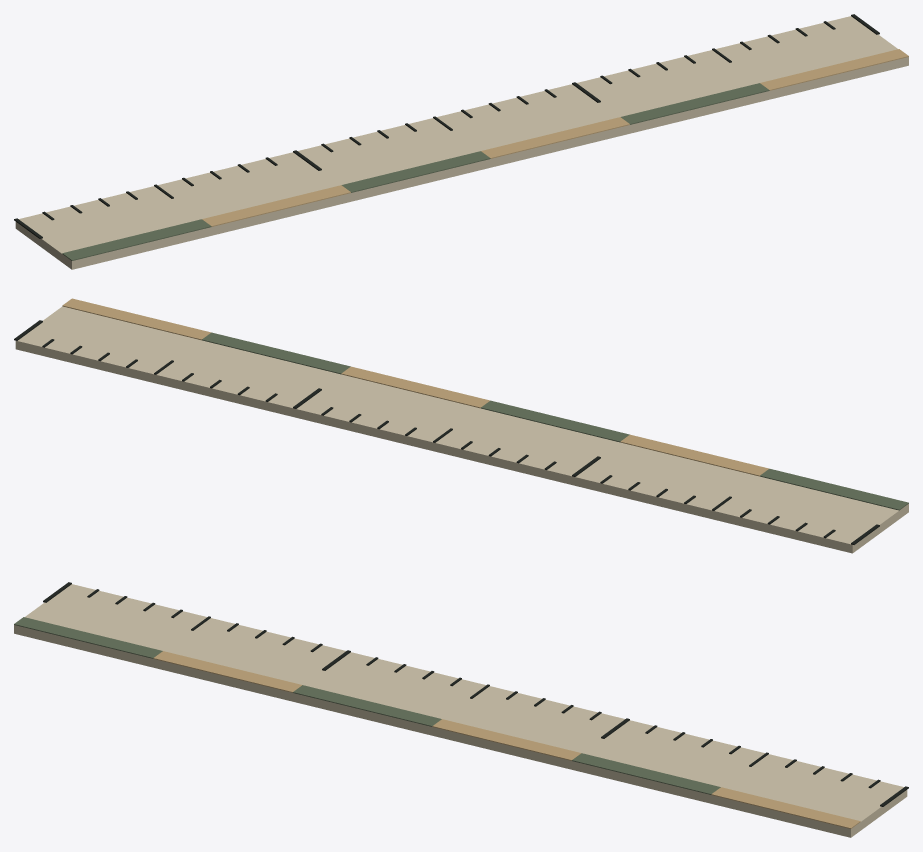
File: regua-calibracao-30cm.glb
3 views of the same model, one above another, from view 1: azimuth 30°, elevation 25°; view 2: azimuth 150°, elevation 25°; view 3: azimuth 330°, elevation 25° (orthographic).
Parts seen in each view (by area): view 1: regua-calibracao-30cm; view 2: regua-calibracao-30cm; view 3: regua-calibracao-30cm.
Boxes of the visible parts, x1,y1,x2,y2 form: regua-calibracao-30cm: (14,14,908,269); regua-calibracao-30cm: (14,298,908,553); regua-calibracao-30cm: (14,582,908,837).
Bounding box in the file's own units: 0.3012 × 0.0034 × 0.035.
